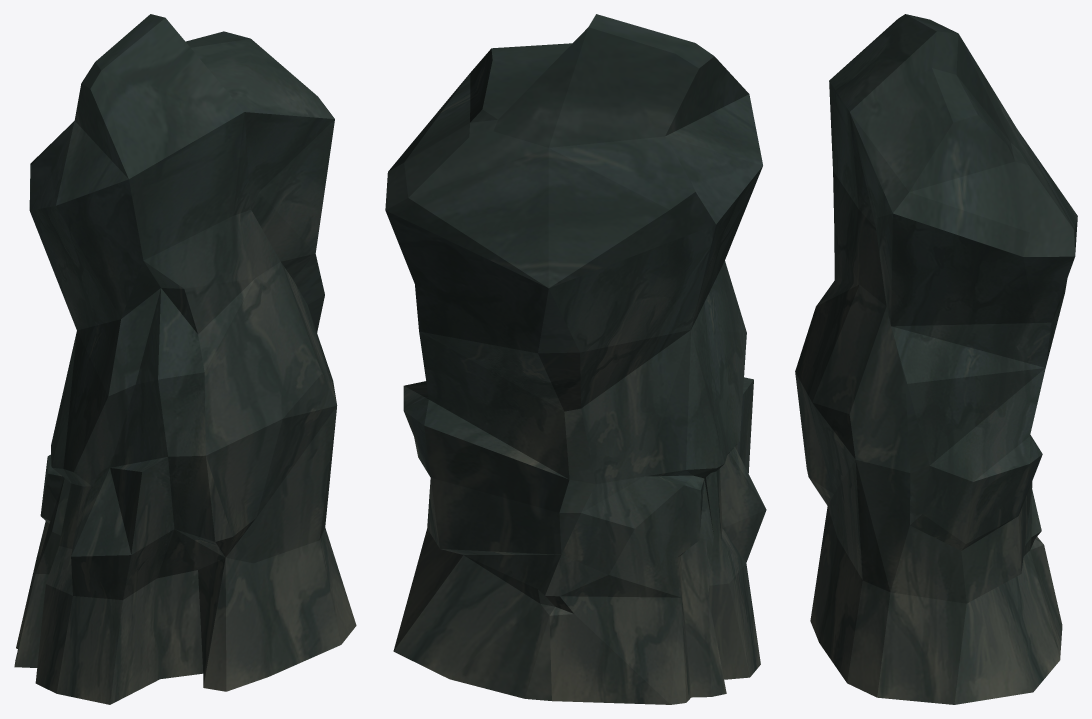
Rendered from ETC0610069.fbx.
The picture shows the model from 3 angles, left to right: view 1: azimuth 30°, elevation 25°; view 2: azimuth 150°, elevation 25°; view 3: azimuth 270°, elevation 25°; orthographic projection. The views are drawn at different scales.
Visible parts, largest first — view 1: smETC0610069; view 2: smETC0610069; view 3: smETC0610069.
Part boxes in pixels (bbox=[...]): smETC0610069: bbox=[14, 14, 356, 704]; smETC0610069: bbox=[385, 14, 766, 704]; smETC0610069: bbox=[795, 14, 1077, 704].
Bounding box in the file's own units: 210 × 397 × 172.
1 material, 1 textured.
